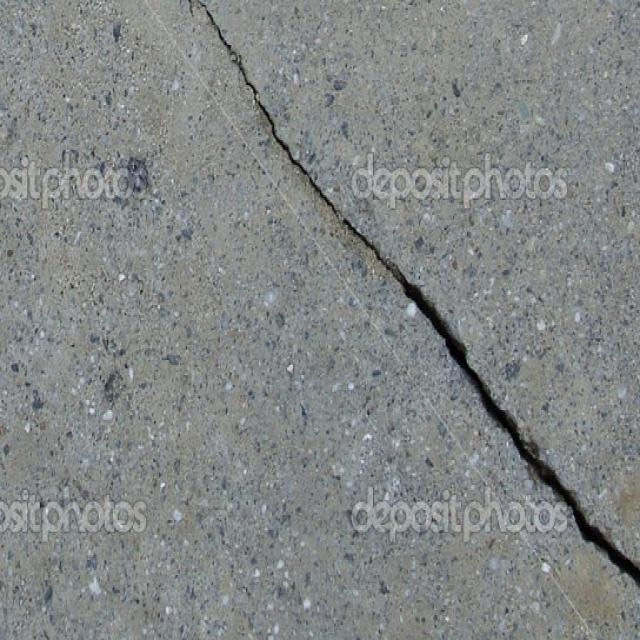Diagonal: (183, 0, 640, 608)
